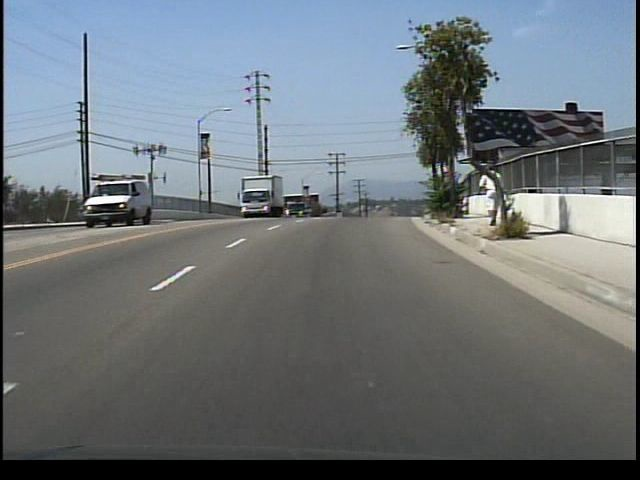person: (479, 160, 507, 229)
